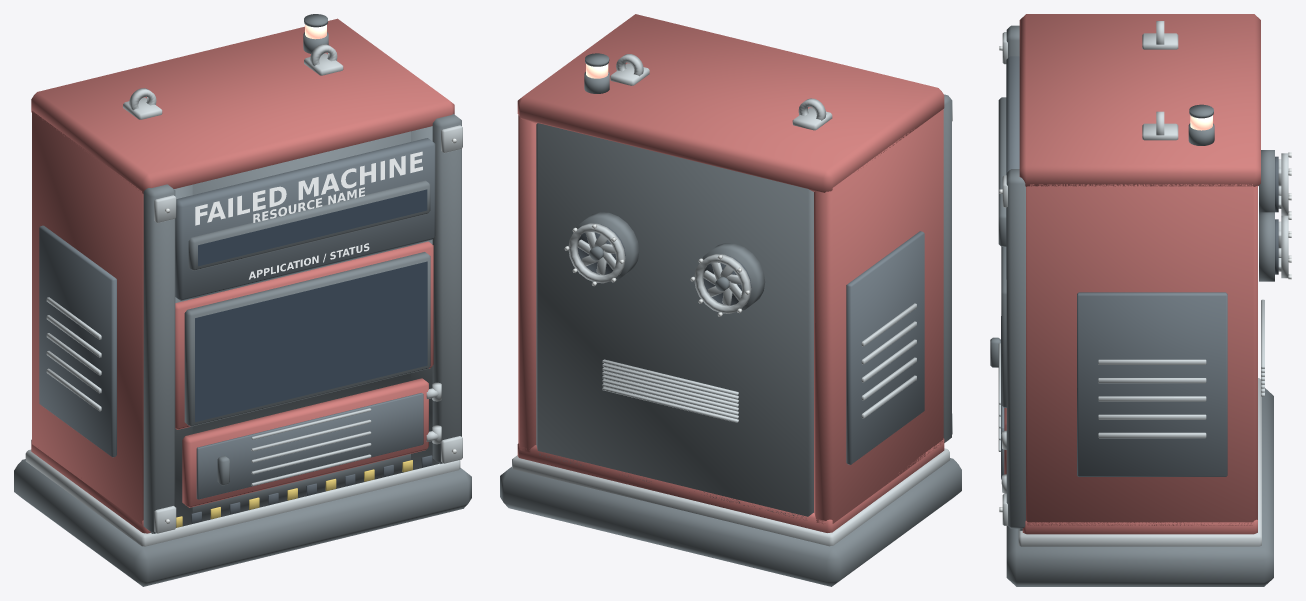
Rendered from failed_machine_standard.glb.
3 views of the same model, side by side, from view 1: azimuth 30°, elevation 25°; view 2: azimuth 150°, elevation 25°; view 3: azimuth 270°, elevation 25° (orthographic). The views are drawn at different scales.
Parts seen in each view (by area): view 1: Roof_darkred, LiveViewSurface_glass, SideWall_darkred, CornerPost_frame, Skid_frame, FrontHeader_graphite, SideServicePanel_graphite, DoorMoving_Inset_graphite, DoorMoving_Panel_darkred, SkidDeck_steel, LiveViewSurfaceFrame_frame, ResourceNameSurface_glass (+15 smaller); view 2: BackWall_frame, Roof_darkred, SideWall_darkred, Skid_frame, SideServicePanel_graphite, SkidDeck_steel, KickPlate_darkred, RearFan_steel, RearVent_steel, CornerPost_frame, RearFan_frame, SideLouver_steel (+3 smaller); view 3: SideWall_darkred, Roof_darkred, SideServicePanel_graphite, Skid_frame, CornerPost_frame, SkidDeck_steel, SideLouver_steel, KickPlate_darkred, RearFan_frame, FrontHeader_graphite, RearFan_steel, ResourceNameSurfaceFrame_frame (+6 smaller).
Boxes of the visible parts, <box> form: Roof_darkred: <box>31,18,454,193</box>; LiveViewSurface_glass: <box>195,261,427,422</box>; SideWall_darkred: <box>32,111,143,524</box>; CornerPost_frame: <box>143,114,461,533</box>; Skid_frame: <box>14,459,471,586</box>; FrontHeader_graphite: <box>175,138,435,300</box>; SideServicePanel_graphite: <box>39,225,116,457</box>; DoorMoving_Inset_graphite: <box>196,393,423,499</box>; DoorMoving_Panel_darkred: <box>182,378,428,507</box>; SkidDeck_steel: <box>25,449,460,546</box>; LiveViewSurfaceFrame_frame: <box>184,252,430,426</box>; ResourceNameSurface_glass: <box>198,189,427,266</box>; BackWall_frame: <box>536,123,813,519</box>; Roof_darkred: <box>517,14,944,192</box>; SideWall_darkred: <box>518,109,943,523</box>; Skid_frame: <box>500,458,961,586</box>; SideServicePanel_graphite: <box>846,231,924,464</box>; SkidDeck_steel: <box>512,448,949,546</box>; KickPlate_darkred: <box>517,438,944,532</box>; RearFan_steel: <box>568,223,751,313</box>; RearVent_steel: <box>602,359,738,422</box>; CornerPost_frame: <box>943,94,951,442</box>; RearFan_frame: <box>576,212,765,312</box>; SideLouver_steel: <box>861,303,916,418</box>; SideWall_darkred: <box>1026,184,1257,525</box>; Roof_darkred: <box>1019,14,1260,186</box>; SideServicePanel_graphite: <box>1077,292,1227,476</box>; Skid_frame: <box>1006,388,1273,586</box>; CornerPost_frame: <box>1006,25,1025,528</box>; SkidDeck_steel: <box>1018,378,1261,546</box>; SideLouver_steel: <box>1098,359,1206,438</box>; KickPlate_darkred: <box>1022,519,1257,534</box>; RearFan_frame: <box>1259,150,1274,281</box>; FrontHeader_graphite: <box>1006,56,1019,279</box>; RearFan_steel: <box>1278,153,1288,278</box>; ResourceNameSurfaceFrame_frame: <box>998,97,1006,246</box>.
Size of the model in its own units: 2 by 2.48 by 1.51.
